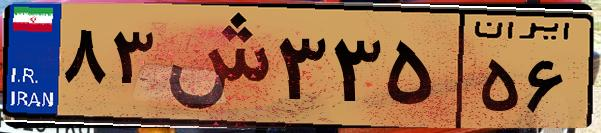3: (270, 28, 330, 110), (330, 28, 385, 110), (110, 28, 158, 98)
5: (385, 28, 445, 110), (475, 38, 525, 113)
6: (525, 38, 570, 115)
8: (57, 26, 110, 100)
ش: (158, 12, 270, 120)
